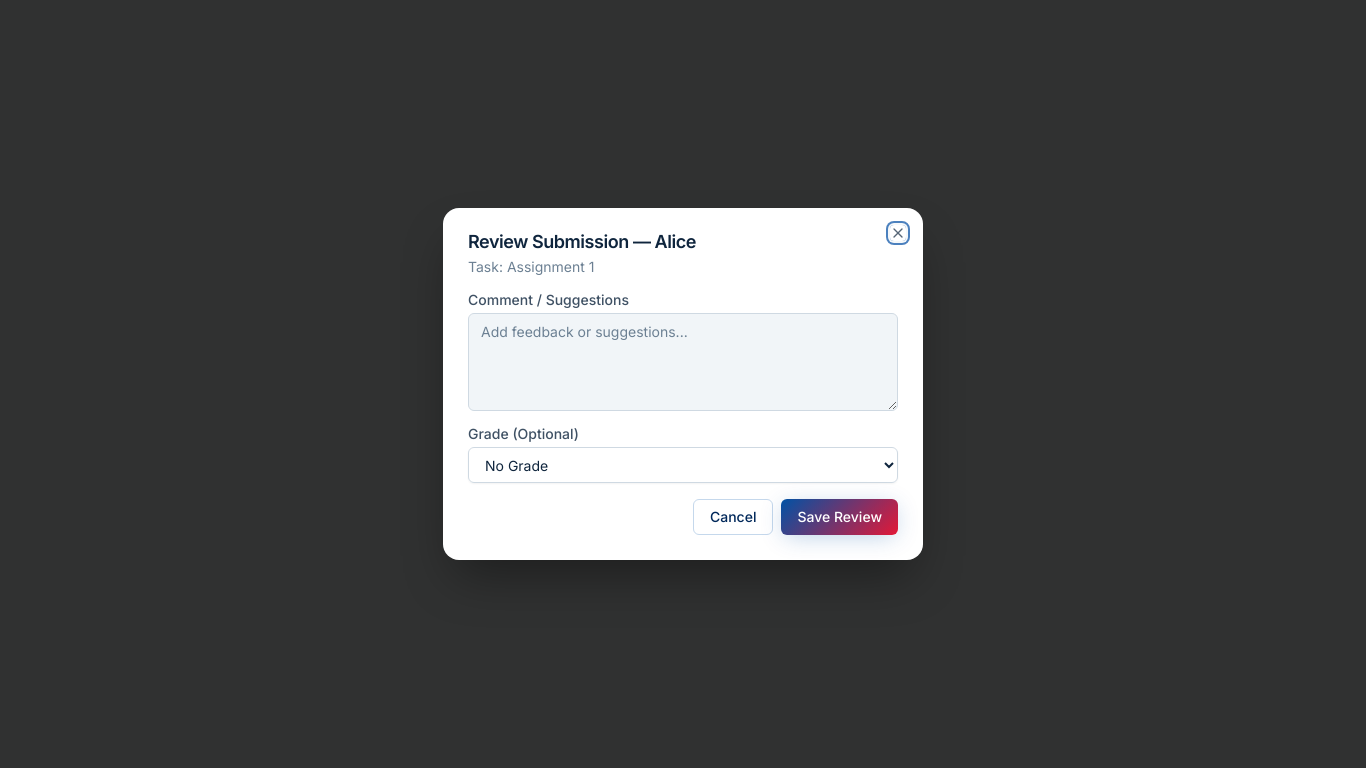
Scenario: ReviewDialog › Save button is disabled while saving
Expected: the text box with placeholder "Add feedback or suggestions..." is shown, [468, 313, 898, 411]
Click the button "Save Review". click: (840, 517)
box: [782, 499, 898, 535]
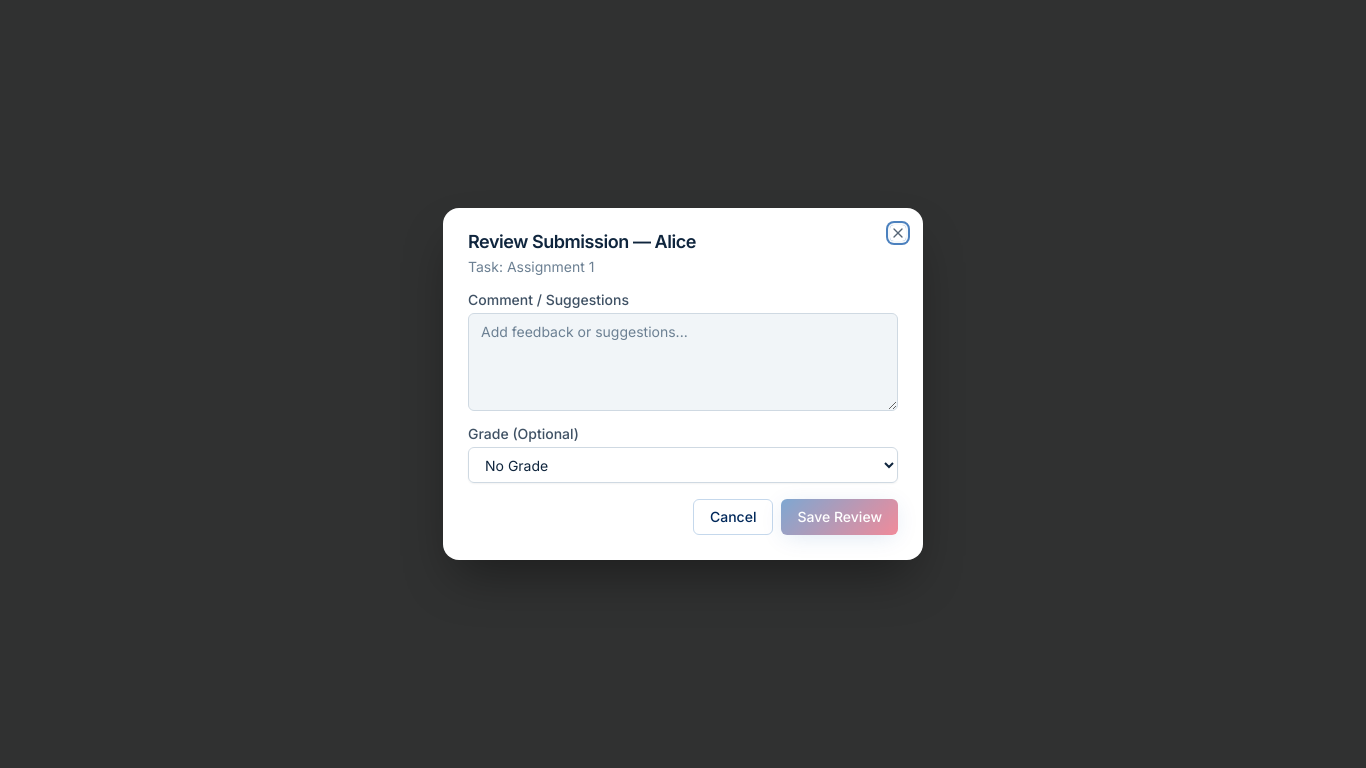
Expected: the button "Save Review" is disabled, [782, 499, 898, 535]
